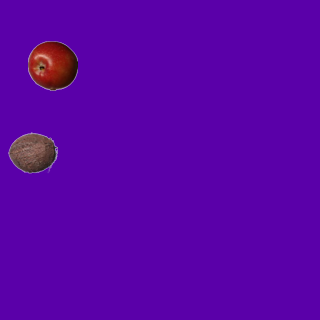Apple Braeburn: (27, 40, 77, 90)
Cocos: (7, 127, 57, 177)
